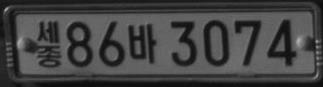0: (202, 18, 230, 66)
3: (170, 20, 197, 67)
4: (267, 18, 297, 66)
6: (98, 20, 125, 67)
7: (234, 19, 263, 67)
8: (65, 20, 93, 67)
바: (127, 23, 157, 64)
세종_V: (36, 20, 62, 68)
